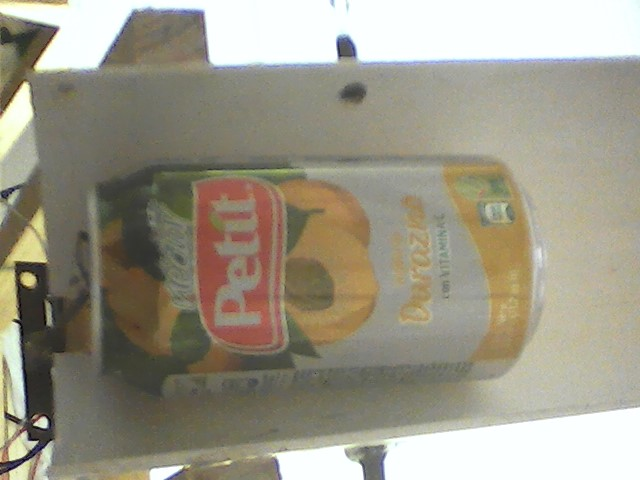lata: (78, 149, 551, 402)
